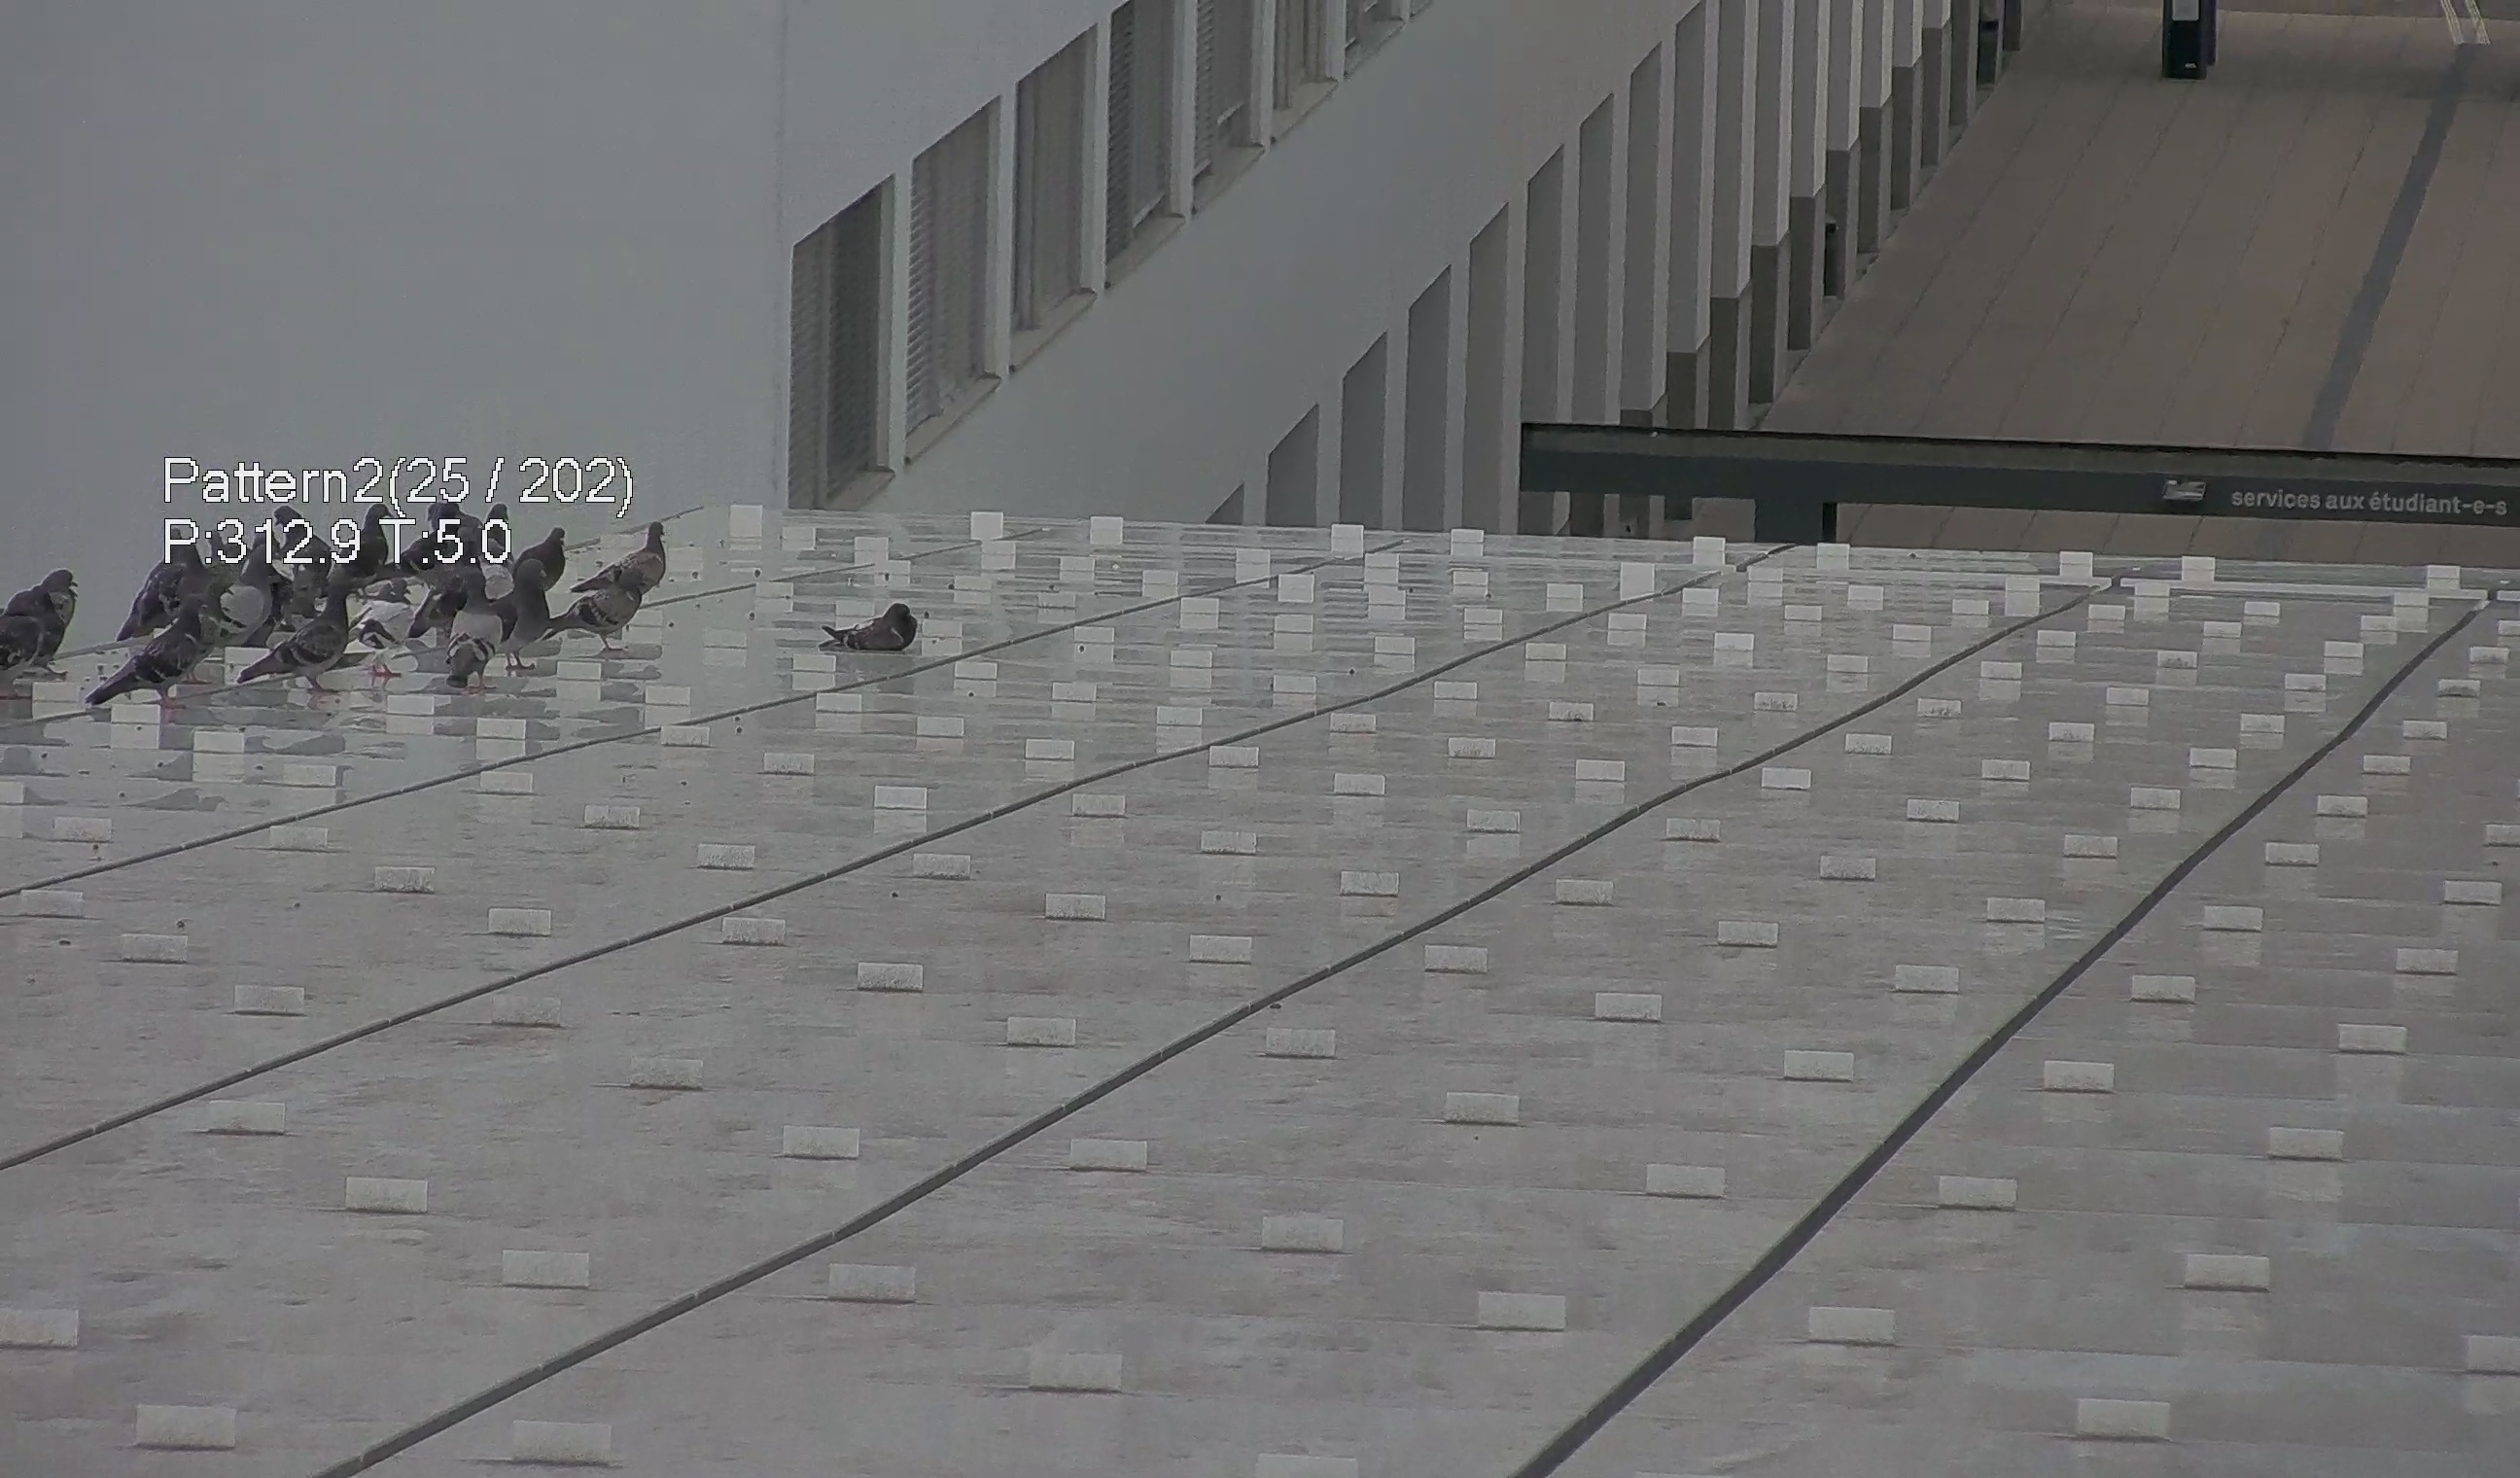Pigeon: (93, 588, 209, 720), (262, 579, 361, 688), (5, 561, 93, 681), (121, 528, 204, 640), (545, 561, 644, 651), (805, 593, 927, 665), (209, 547, 283, 656), (345, 581, 419, 683), (573, 516, 668, 595), (450, 575, 510, 700), (325, 501, 394, 589), (273, 505, 334, 581), (517, 528, 564, 589)
